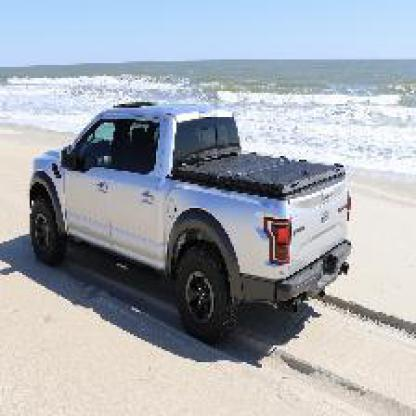not_emergency: (26, 93, 375, 353)
